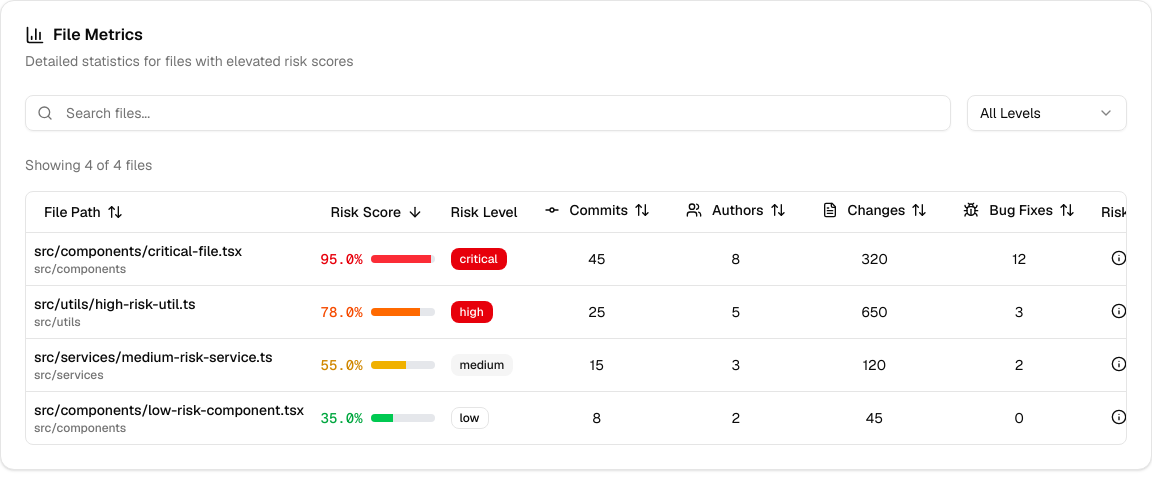
Test: MetricsTable › filters by search term
Type "critical" into the field with placeholder "Search files...".
click(488, 113); type("critical")  # box [25,95,951,131]
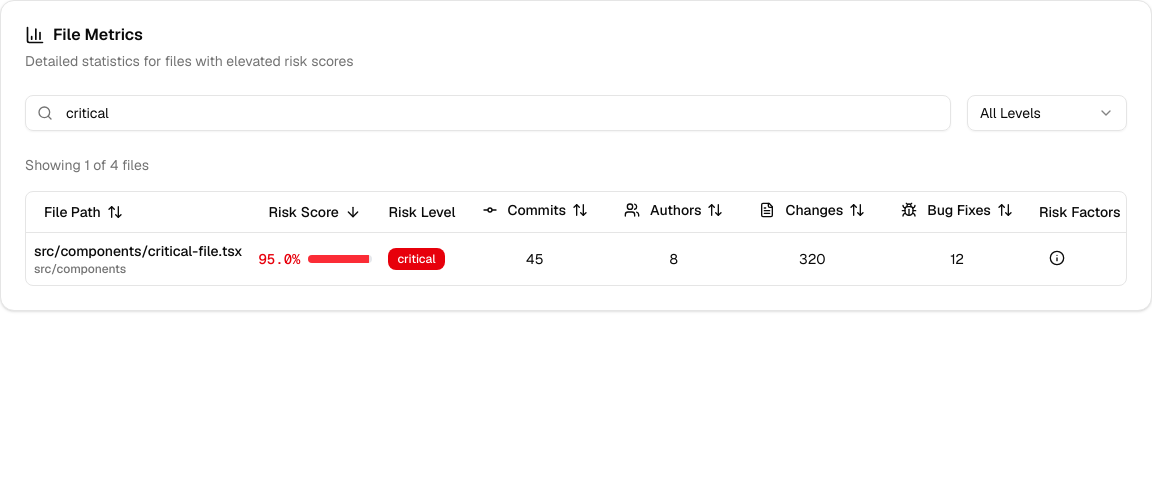
Check: the text "src/components/critical-file.tsx" is shown, box [34,240,242,260]
Check: the text "Showing 1 of 4 files" is shown, box [25,156,149,174]
Check: the text "src/utils/high-risk-util.ts" is gone
